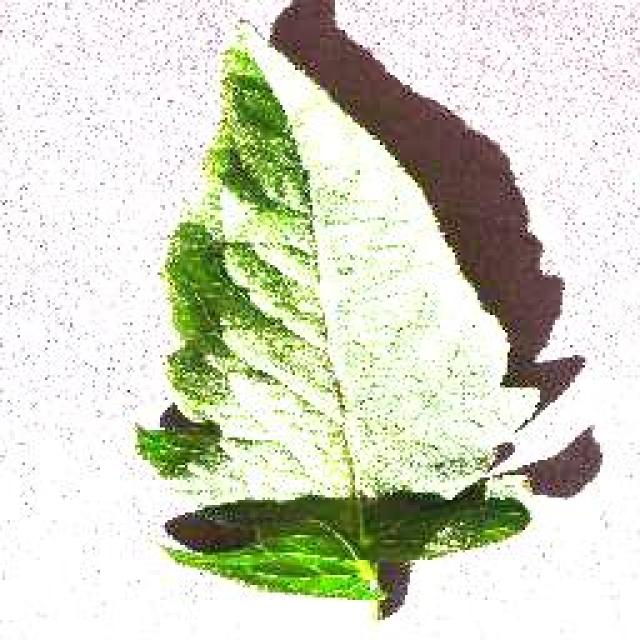Tomato___healthy: (128, 11, 545, 626)
